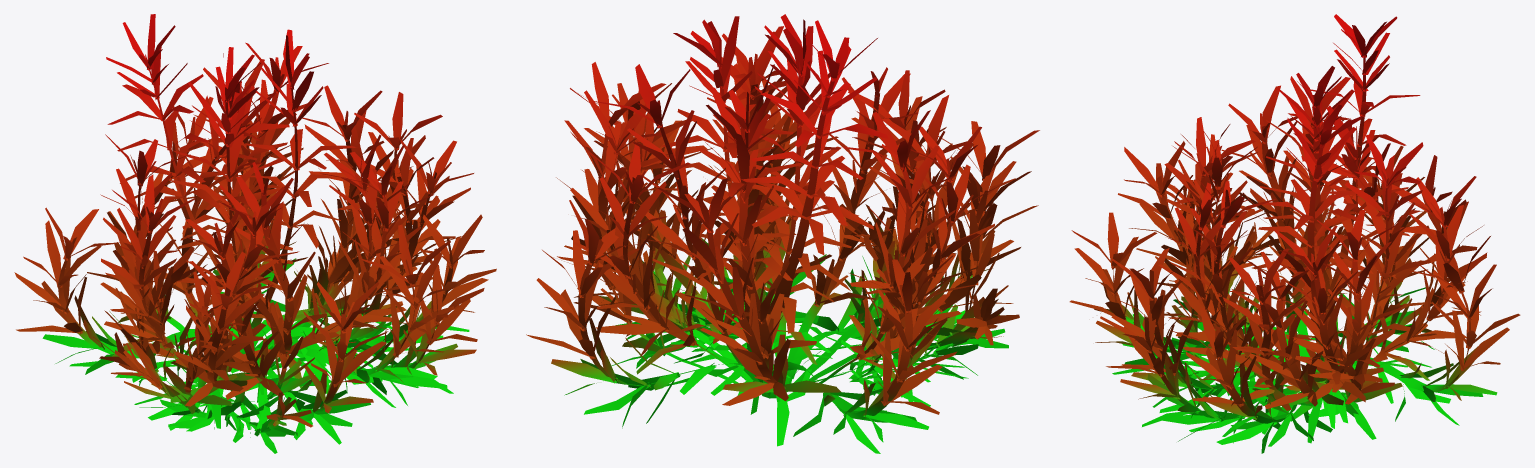
Rendered from Var7_LOD3.fbx.
3 renders of one model, left to right at view 1: azimuth 30°, elevation 25°; view 2: azimuth 150°, elevation 25°; view 3: azimuth 270°, elevation 25°, orthographic. The views are drawn at different scales.
Visible parts, largest first — view 1: _7jxx_Var7_LOD3; view 2: _7jxx_Var7_LOD3; view 3: _7jxx_Var7_LOD3.
Boxes of the visible parts, x1,y1,x2,y2 form: _7jxx_Var7_LOD3: (14, 14, 496, 453); _7jxx_Var7_LOD3: (526, 14, 1039, 453); _7jxx_Var7_LOD3: (1069, 14, 1520, 453).
Size of the model in its own units: 35.41 by 32.62 by 36.96.
